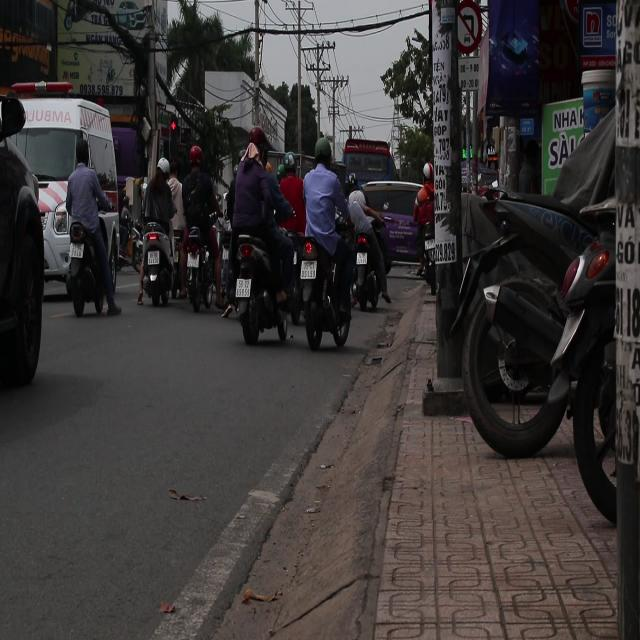bus: (342, 140, 394, 195)
car: (361, 182, 426, 269)
motorbike: (61, 181, 126, 326), (281, 223, 353, 351), (228, 224, 294, 348), (178, 208, 232, 336), (351, 198, 393, 309), (135, 223, 178, 306)
truck: (1, 90, 121, 268)
